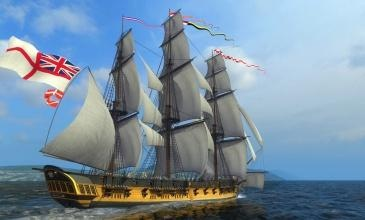fanchuan: (45, 10, 265, 203)
